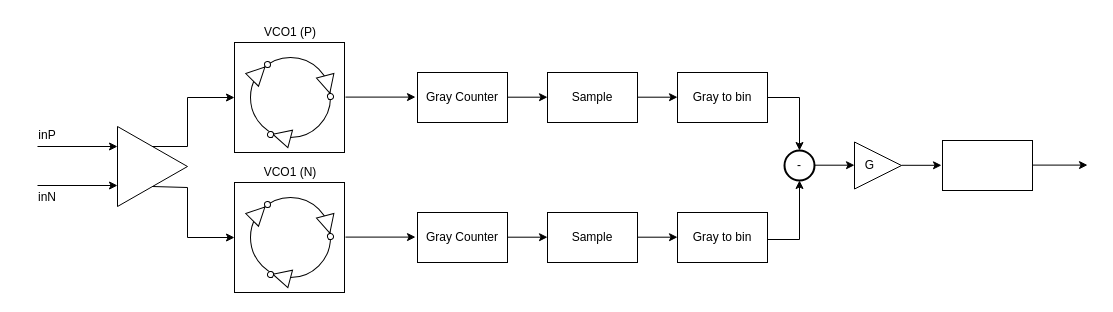
Some shapes in this 1113 by 312 pixel diagram are drawn without their labels. The shapes that lost their labels are listed below. From the top down, each one's box as (x1, y1, x2, y2) in pixels, then its label:
(116, 126, 188, 206): gm
(942, 140, 1032, 190): Noise Shaper
